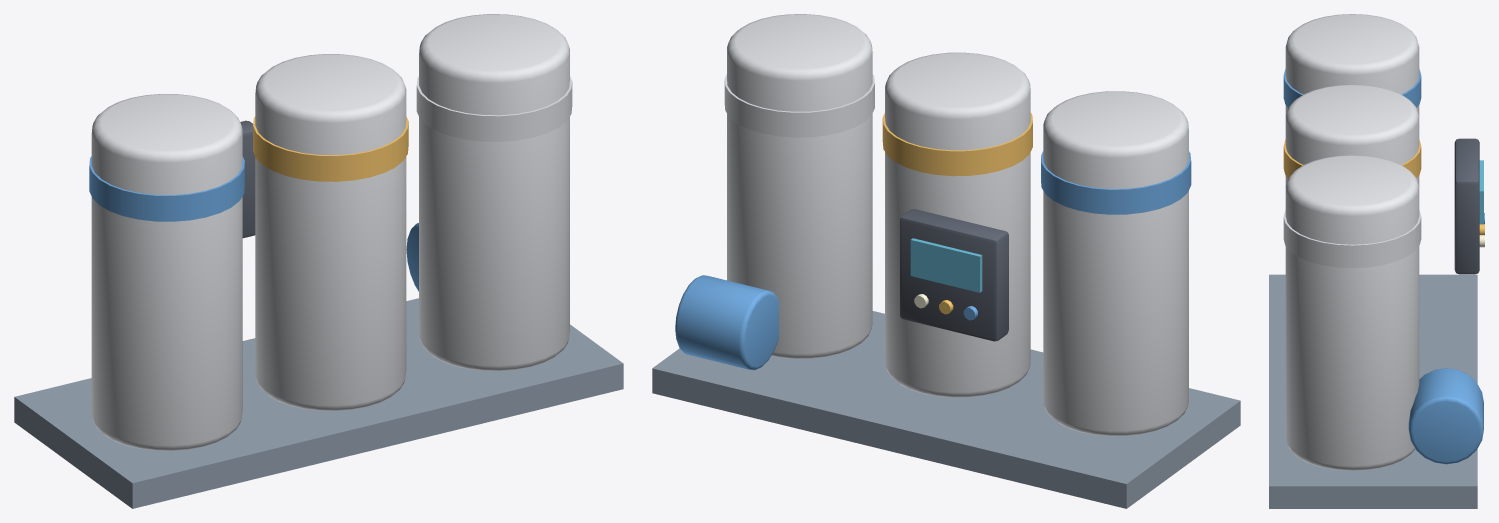
Rendered from CIP.fbx.
3 views of the same model, side by side, from view 1: azimuth 30°, elevation 25°; view 2: azimuth 150°, elevation 25°; view 3: azimuth 270°, elevation 25° (orthographic). The views are drawn at different scales.
Visible parts, largest first — view 1: Maszyna_CIP_Korpus; view 2: Maszyna_CIP_Korpus; view 3: Maszyna_CIP_Korpus.
Part boxes in pixels (x1,y1,x2,y2): Maszyna_CIP_Korpus: (14, 14, 623, 508); Maszyna_CIP_Korpus: (652, 14, 1240, 508); Maszyna_CIP_Korpus: (1269, 14, 1484, 508).
Size of the model in its own units: 2.4 by 1.71 by 1.03.
